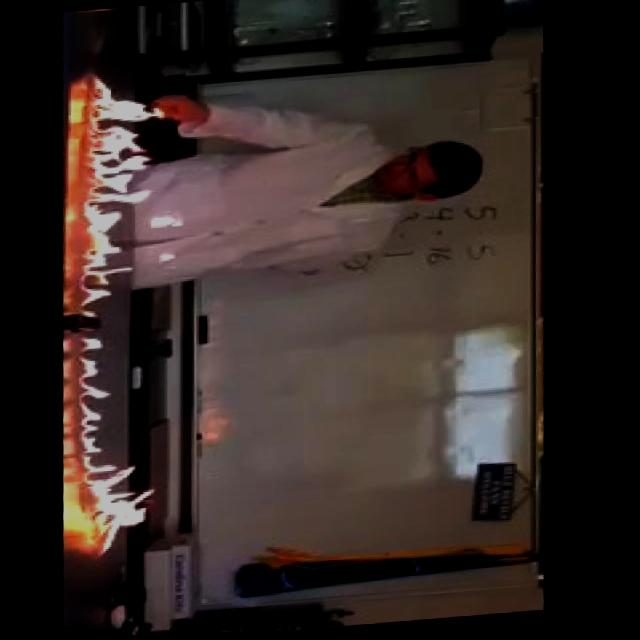helmet: (47, 62, 215, 561)
